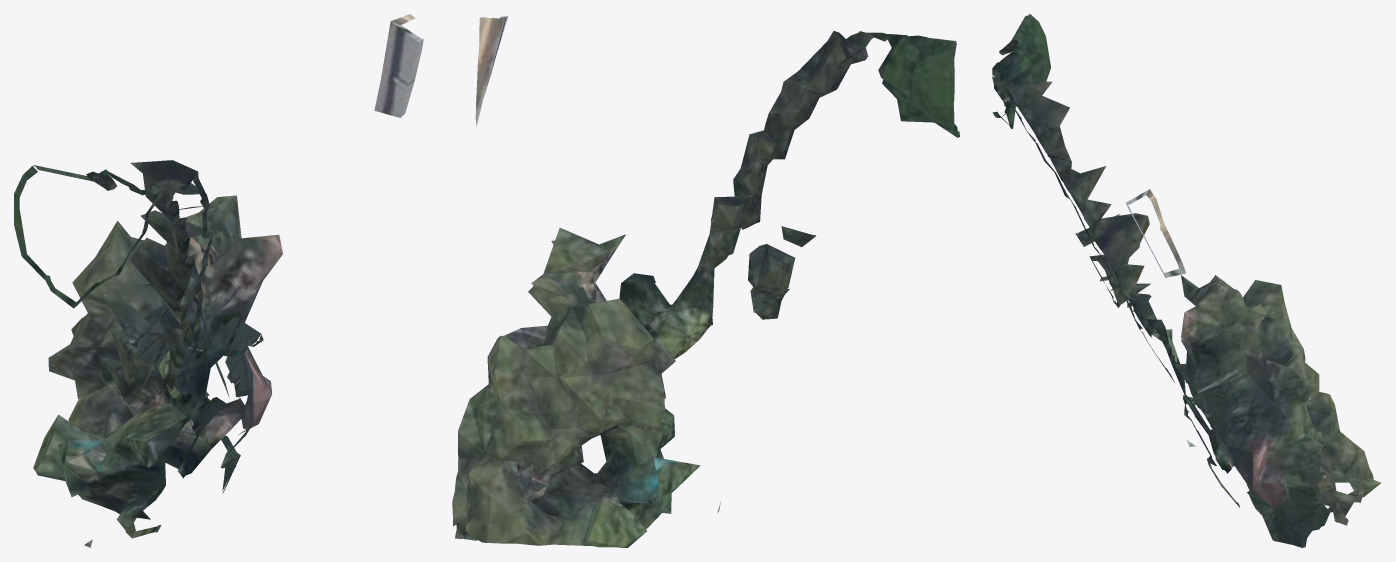
The model's file is AJVsH2wIO6zZl-xPbQHxNv9KTX2pjhD8ahWQfP6vV4IviMod8DEBC_daGpbPhMENVsgcOx-X3Gpfn4hal5rBCH2A1mJS3CUHtVuax_iirEW5x5V1v7b9LEm8RClUx27Pcv0lcKXw-2MnCCioY6NJNU_DXQkI.glb.
3 views of the same model, side by side, from view 1: azimuth 30°, elevation 25°; view 2: azimuth 150°, elevation 25°; view 3: azimuth 270°, elevation 25° (orthographic). The views are drawn at different scales.
Size of the model in its own units: 34.73 by 37.83 by 33.25.
Materials: 1 (1 with a texture image).
